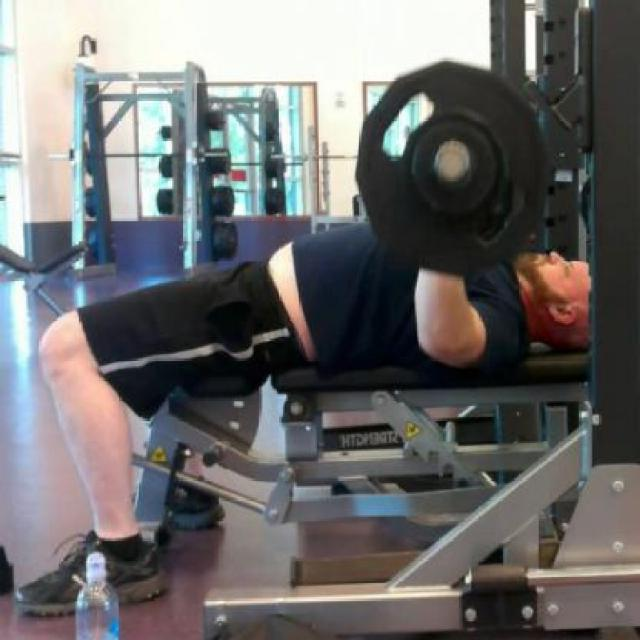Barbell: (431, 137, 478, 186)
